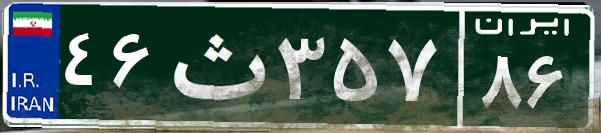3: (273, 28, 330, 110)
4: (57, 26, 110, 107)
5: (330, 28, 385, 110)
6: (110, 28, 158, 105), (525, 38, 570, 115)
7: (385, 28, 445, 110)
8: (475, 38, 525, 113)
ث: (158, 15, 273, 115)
